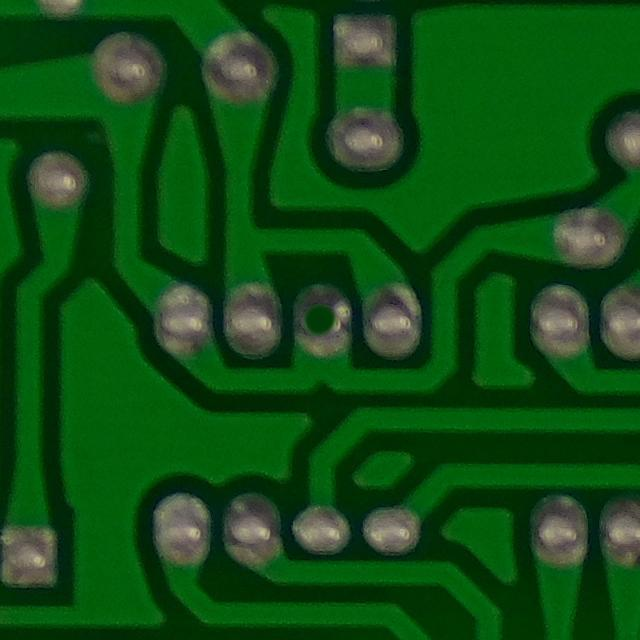missing_hole: (282, 271, 361, 368)
